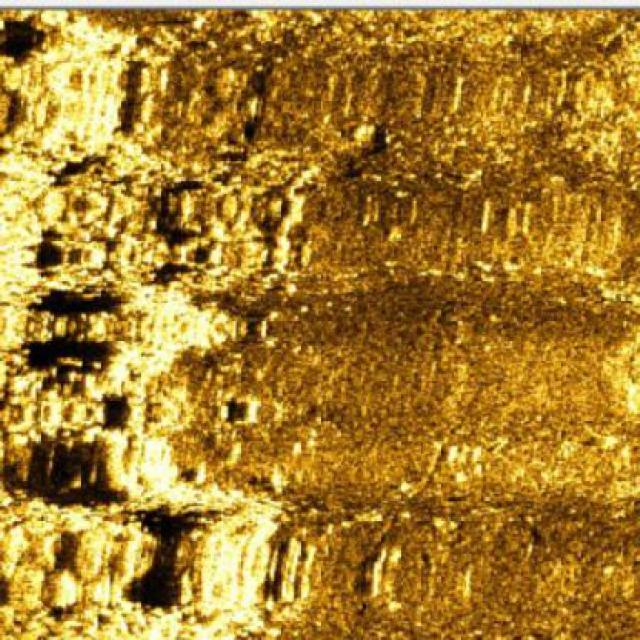bedrock group: (0, 6, 325, 640)
